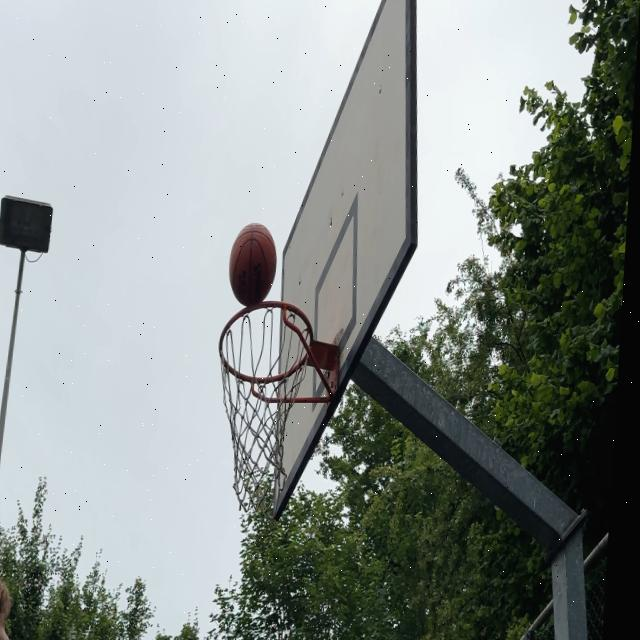rebound_hit: (228, 221, 280, 311)
